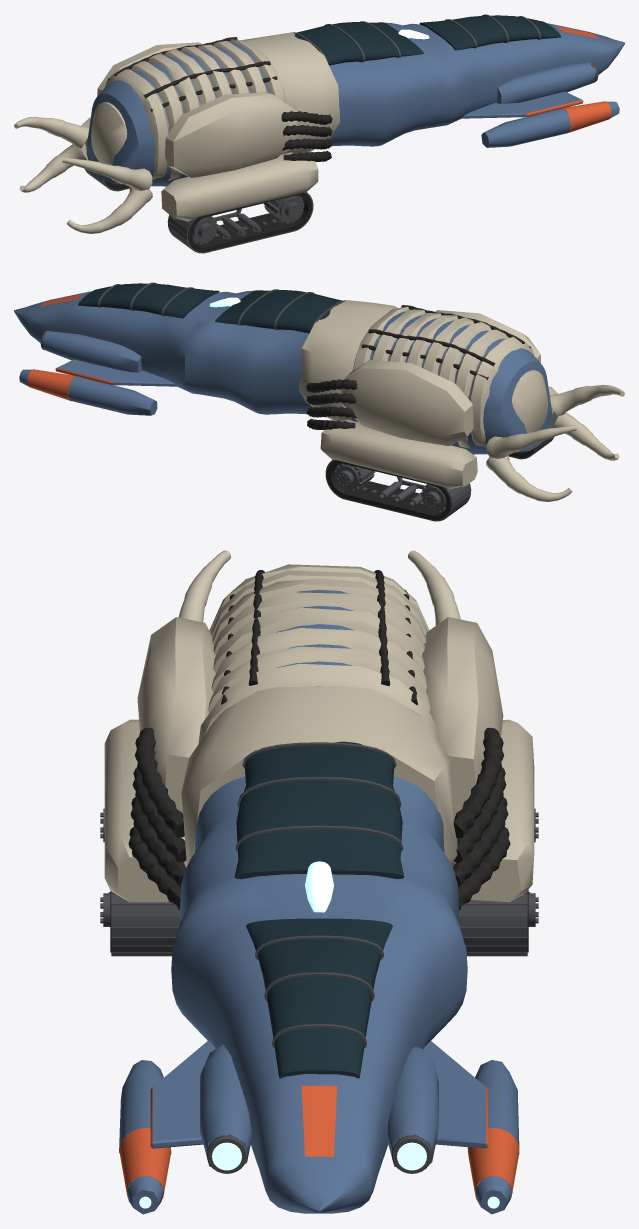
File: helix_blueprint_LOD2.glb
3 renders of one model, top to bottom at view 1: azimuth 30°, elevation 25°; view 2: azimuth 150°, elevation 25°; view 3: azimuth 270°, elevation 25°, orthographic. The views are drawn at different scales.
Parts seen in each view (by area): view 1: Body_Hull.001, Body_Shoulder_-1.001, Body_Fender_-1.001, Body_Collar.001, Glass_CanopyAft.001, Glass_CanopyFwd.001, Body_Nacelle_-1.001, Body_Pod_-1.001, Prop_Track_Belt_-1.001, Body_Plate_0.001, Body_Maw.001, Body_Wing_-1.001 (+22 smaller); view 2: Body_Hull.001, Body_Shoulder_+1.001, Body_Fender_+1.001, Body_Collar.001, Glass_CanopyAft.001, Glass_CanopyFwd.001, Body_Nacelle_+1.001, Body_Pod_+1.001, Prop_Track_Belt_+1.001, Body_Plate_0.001, Body_Maw.001, Body_Wing_+1.001 (+22 smaller); view 3: Body_Hull.001, Glass_CanopyAft.001, Body_Collar.001, Glass_CanopyFwd.001, Body_Shoulder_+1.001, Body_Shoulder_-1.001, Body_Fender_-1.001, Body_Fender_+1.001, Body_Plate_7.001, Body_Wing_+1.001, Body_Wing_-1.001, Body_Nacelle_-1.001 (+29 smaller).
Part boxes in pixels (bbox=[...]): Body_Hull.001: bbox=[86, 22, 624, 186]; Body_Shoulder_-1.001: bbox=[165, 92, 297, 177]; Body_Fender_-1.001: bbox=[161, 152, 318, 221]; Body_Collar.001: bbox=[242, 32, 340, 154]; Glass_CanopyAft.001: bbox=[294, 22, 423, 65]; Glass_CanopyFwd.001: bbox=[419, 15, 560, 50]; Body_Nacelle_-1.001: bbox=[496, 62, 595, 103]; Body_Pod_-1.001: bbox=[481, 101, 619, 147]; Prop_Track_Belt_-1.001: bbox=[188, 192, 312, 251]; Body_Plate_0.001: bbox=[105, 69, 168, 179]; Body_Maw.001: bbox=[91, 102, 127, 164]; Body_Wing_-1.001: bbox=[461, 91, 581, 118]; Body_Hull.001: bbox=[14, 290, 552, 454]; Body_Shoulder_+1.001: bbox=[341, 360, 473, 445]; Body_Fender_+1.001: bbox=[320, 419, 477, 488]; Body_Collar.001: bbox=[298, 300, 397, 421]; Glass_CanopyAft.001: bbox=[215, 290, 342, 333]; Glass_CanopyFwd.001: bbox=[78, 283, 219, 318]; Body_Nacelle_+1.001: bbox=[42, 331, 142, 372]; Body_Pod_+1.001: bbox=[19, 369, 157, 415]; Prop_Track_Belt_+1.001: bbox=[326, 460, 450, 519]; Body_Plate_0.001: bbox=[470, 336, 533, 447]; Body_Maw.001: bbox=[512, 370, 547, 432]; Body_Wing_+1.001: bbox=[57, 359, 177, 386]; Body_Hull.001: bbox=[171, 589, 467, 1213]; Glass_CanopyAft.001: bbox=[234, 741, 404, 879]; Body_Collar.001: bbox=[181, 686, 457, 865]; Glass_CanopyFwd.001: bbox=[246, 918, 392, 1078]; Body_Shoulder_+1.001: bbox=[422, 617, 503, 815]; Body_Shoulder_-1.001: bbox=[137, 617, 215, 813]; Body_Fender_-1.001: bbox=[104, 719, 186, 902]; Body_Fender_+1.001: bbox=[451, 719, 534, 902]; Body_Plate_7.001: bbox=[198, 663, 438, 743]; Body_Wing_+1.001: bbox=[423, 1041, 486, 1148]; Body_Wing_-1.001: bbox=[152, 1040, 215, 1148]; Body_Nacelle_-1.001: bbox=[200, 1044, 251, 1167].
Bounding box in the file's own units: 4.98 × 1.22 × 1.61.
